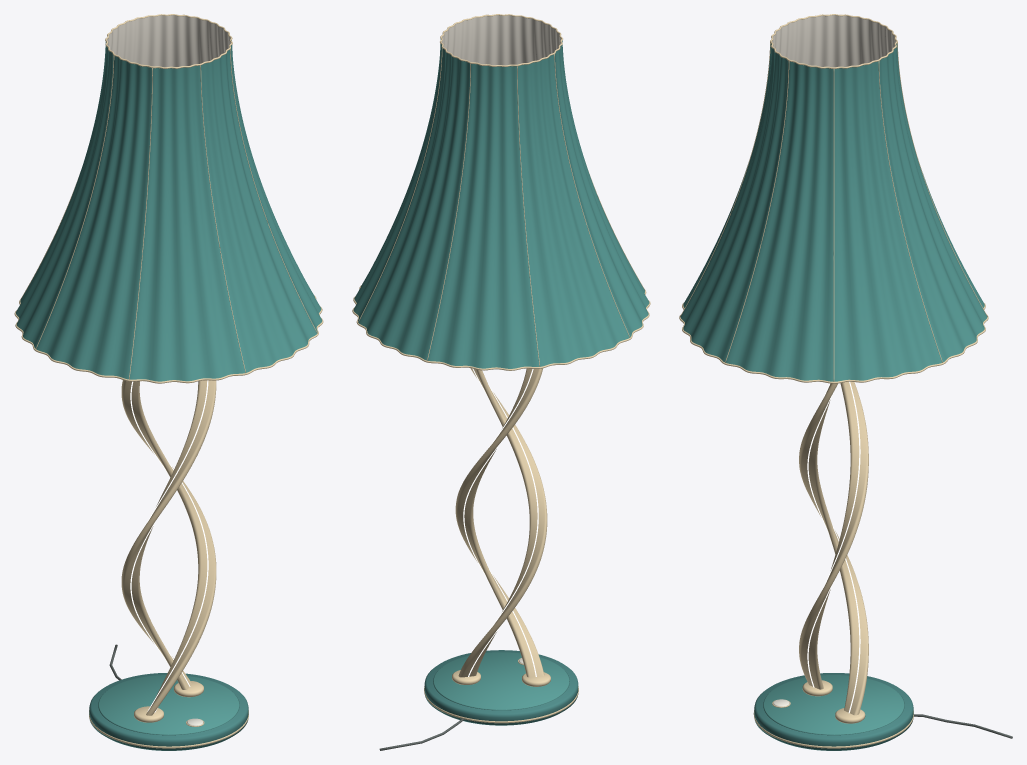
The model's file is lamp.glb.
3 renders of one model, left to right at view 1: azimuth 30°, elevation 25°; view 2: azimuth 150°, elevation 25°; view 3: azimuth 270°, elevation 25°, orthographic. The views are drawn at different scales.
Parts seen in each view (by area): view 1: Shade_Fluted_Jade_Outer, Base_Top_Plate, Shade_Warm_Ivory_Lining, Helix_Ribbon_B, Helix_Ribbon_A, Base_Weighted_Jade, Shade_Bottom_Champagne_Welt, Shade_Top_Champagne_Welt; view 2: Shade_Fluted_Jade_Outer, Base_Top_Plate, Shade_Warm_Ivory_Lining, Helix_Ribbon_A, Helix_Ribbon_B, Base_Weighted_Jade, Shade_Bottom_Champagne_Welt, Shade_Top_Champagne_Welt; view 3: Shade_Fluted_Jade_Outer, Base_Top_Plate, Shade_Warm_Ivory_Lining, Helix_Ribbon_B, Helix_Ribbon_A, Base_Weighted_Jade, Shade_Bottom_Champagne_Welt, Shade_Top_Champagne_Welt, Shade_Meridian_01.
Boxes of the visible parts, bbox=[...] form: Shade_Fluted_Jade_Outer: bbox=[15, 40, 322, 381]; Base_Top_Plate: bbox=[98, 675, 239, 735]; Shade_Warm_Ivory_Lining: bbox=[107, 15, 230, 67]; Helix_Ribbon_B: bbox=[121, 380, 216, 715]; Helix_Ribbon_A: bbox=[121, 380, 216, 689]; Base_Weighted_Jade: bbox=[89, 673, 248, 750]; Shade_Bottom_Champagne_Welt: bbox=[14, 295, 323, 383]; Shade_Top_Champagne_Welt: bbox=[105, 14, 232, 68]; Shade_Fluted_Jade_Outer: bbox=[353, 39, 649, 368]; Base_Top_Plate: bbox=[433, 652, 569, 710]; Shade_Warm_Ivory_Lining: bbox=[441, 15, 561, 65]; Helix_Ribbon_A: bbox=[458, 368, 547, 677]; Helix_Ribbon_B: bbox=[455, 368, 544, 677]; Base_Weighted_Jade: bbox=[424, 650, 578, 725]; Shade_Bottom_Champagne_Welt: bbox=[352, 285, 650, 370]; Shade_Top_Champagne_Welt: bbox=[440, 14, 562, 66]; Shade_Fluted_Jade_Outer: bbox=[680, 43, 987, 381]; Base_Top_Plate: bbox=[763, 675, 904, 735]; Shade_Warm_Ivory_Lining: bbox=[772, 15, 896, 67]; Helix_Ribbon_B: bbox=[799, 381, 868, 689]; Helix_Ribbon_A: bbox=[799, 383, 868, 715]; Base_Weighted_Jade: bbox=[754, 673, 913, 750]; Shade_Bottom_Champagne_Welt: bbox=[679, 303, 988, 383]; Shade_Top_Champagne_Welt: bbox=[770, 14, 897, 68]; Shade_Meridian_01: bbox=[833, 69, 834, 381].
Bounding box in the file's own units: 1.24 × 3 × 1.33.
